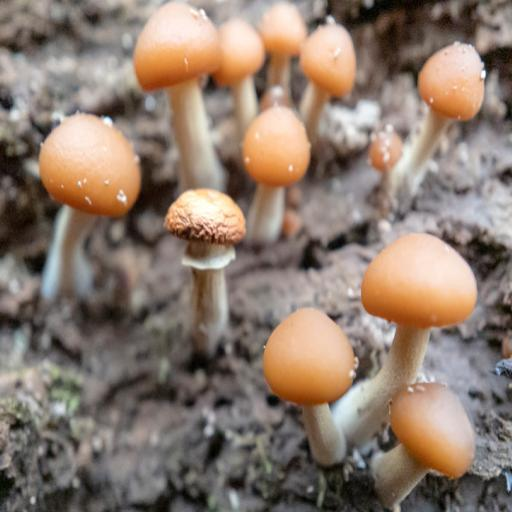mushroom: (263, 229, 478, 491), (134, 1, 368, 216), (28, 97, 141, 304), (371, 28, 487, 209)
